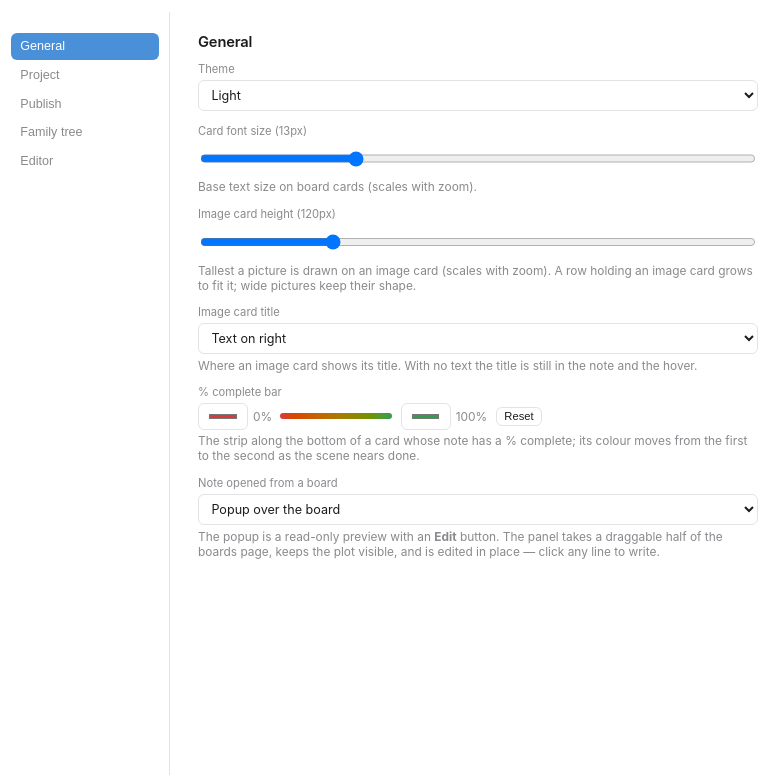
Test: Settings — project metadata › keeps Save disabled until something changes
Click the tab "Project" at (84, 75), box [10, 62, 158, 88]
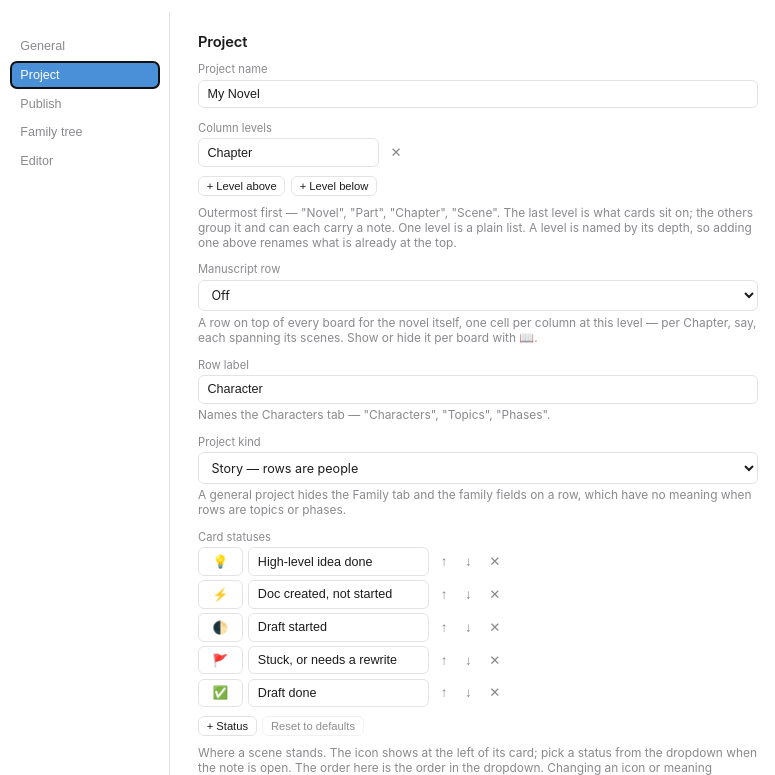
Result: the field labelled "Project name" is not empty at [198, 80, 758, 108]
Type "x" into the field labelled "Row label" at (478, 389), box [198, 375, 758, 404]
(page scrolled)
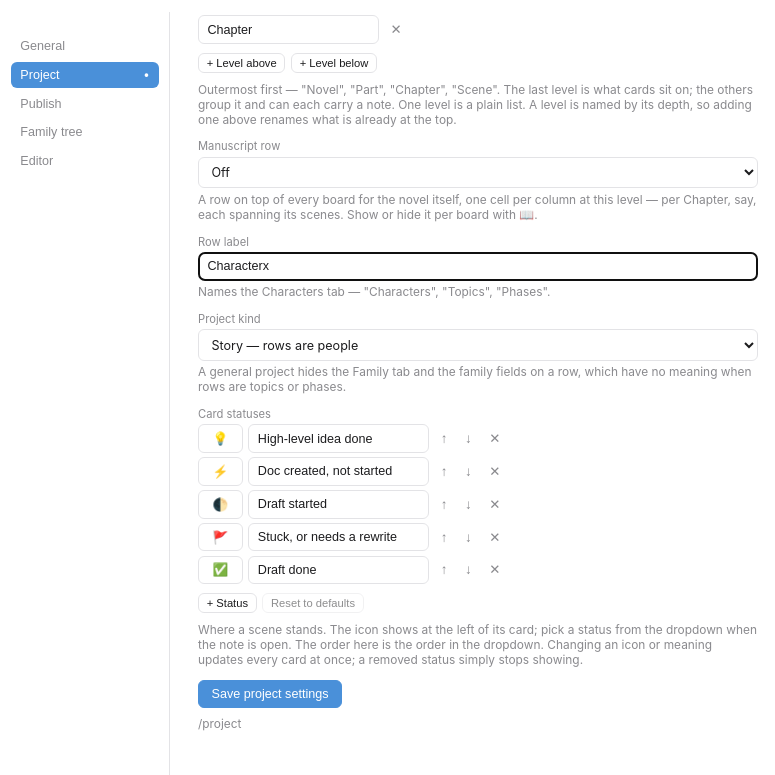
Result: the button "Save project settings" is enabled at [198, 680, 342, 708]
